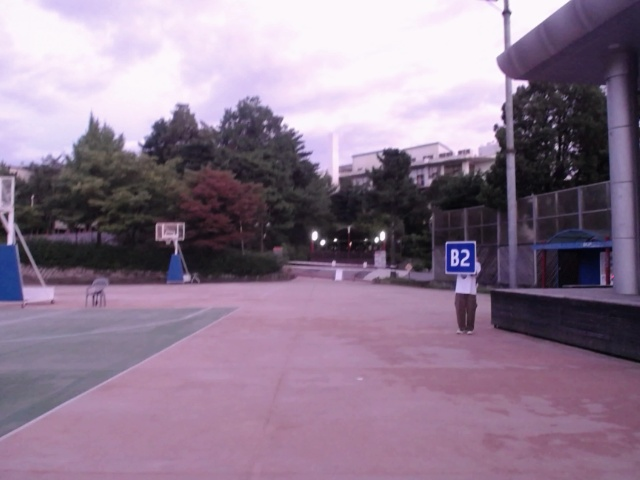delivery_b2: (444, 240, 477, 275)
